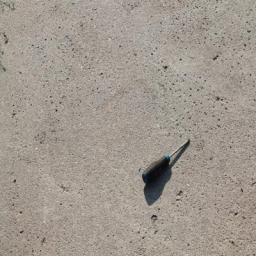FOD: (139, 138, 193, 189)
